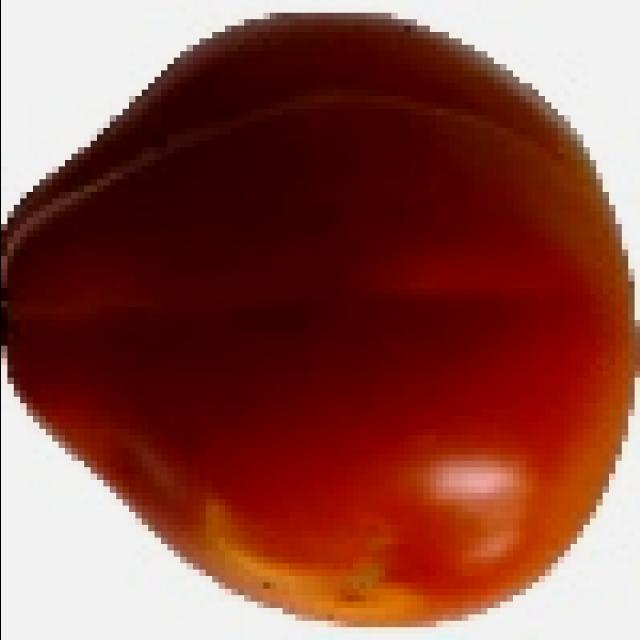tomato: (1, 2, 638, 630)
